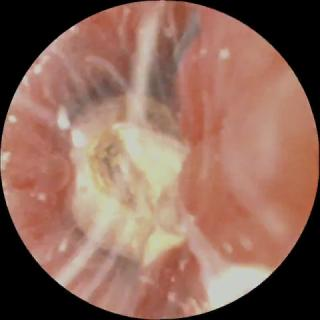stone: (71, 94, 198, 266)
tissue: (9, 13, 309, 308)
